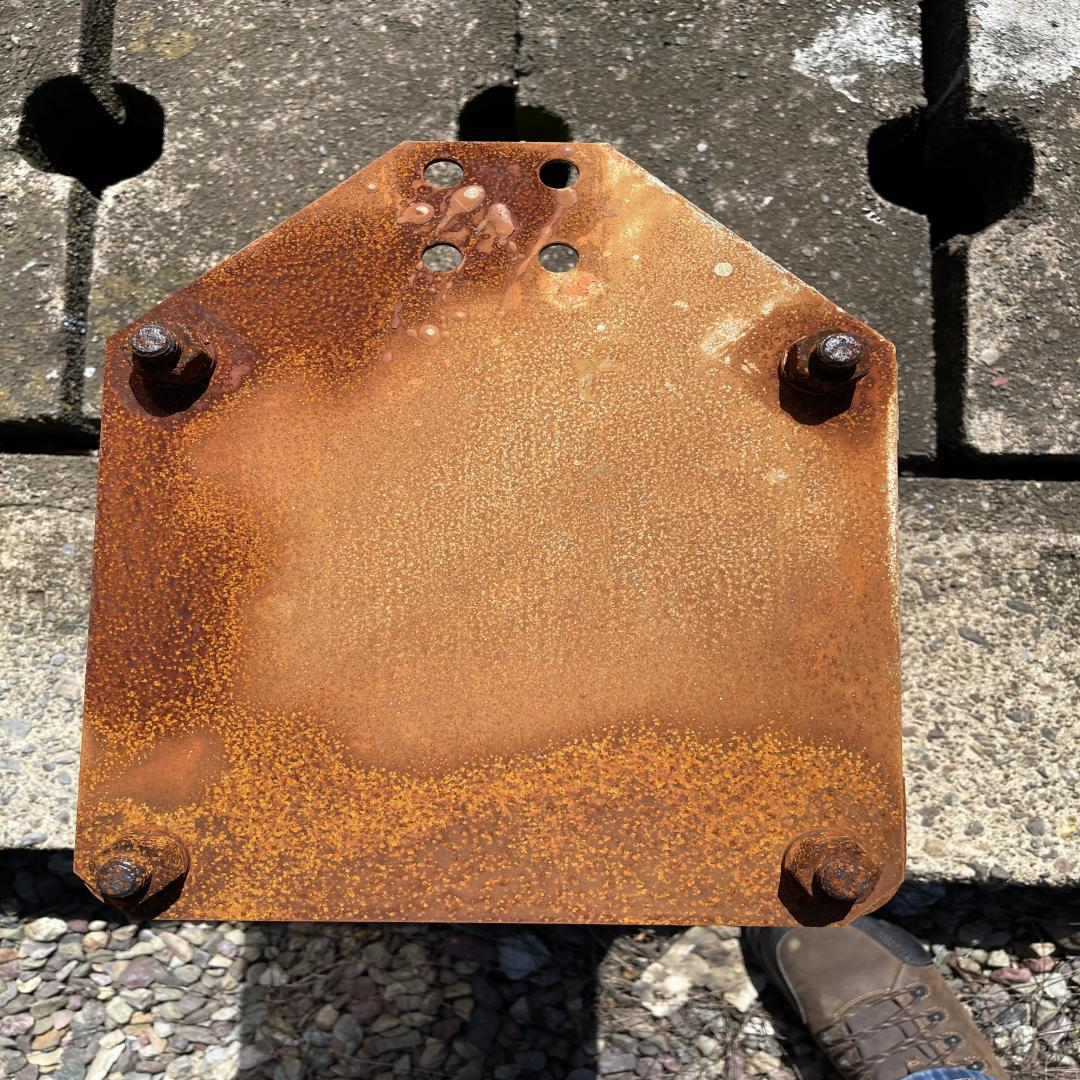Metal corroido: (66, 145, 909, 927)
